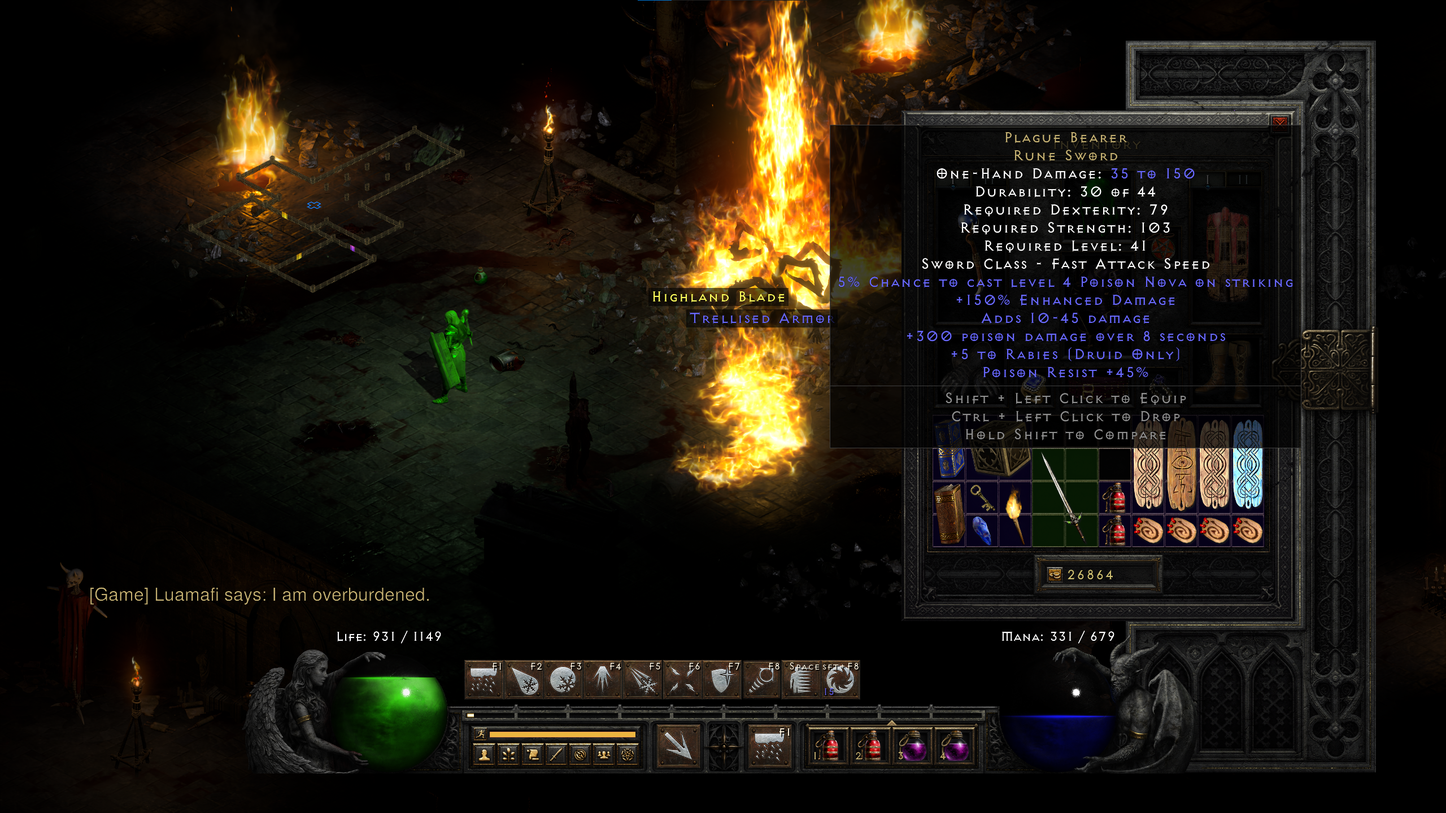tooltip: (831, 126, 1301, 447)
